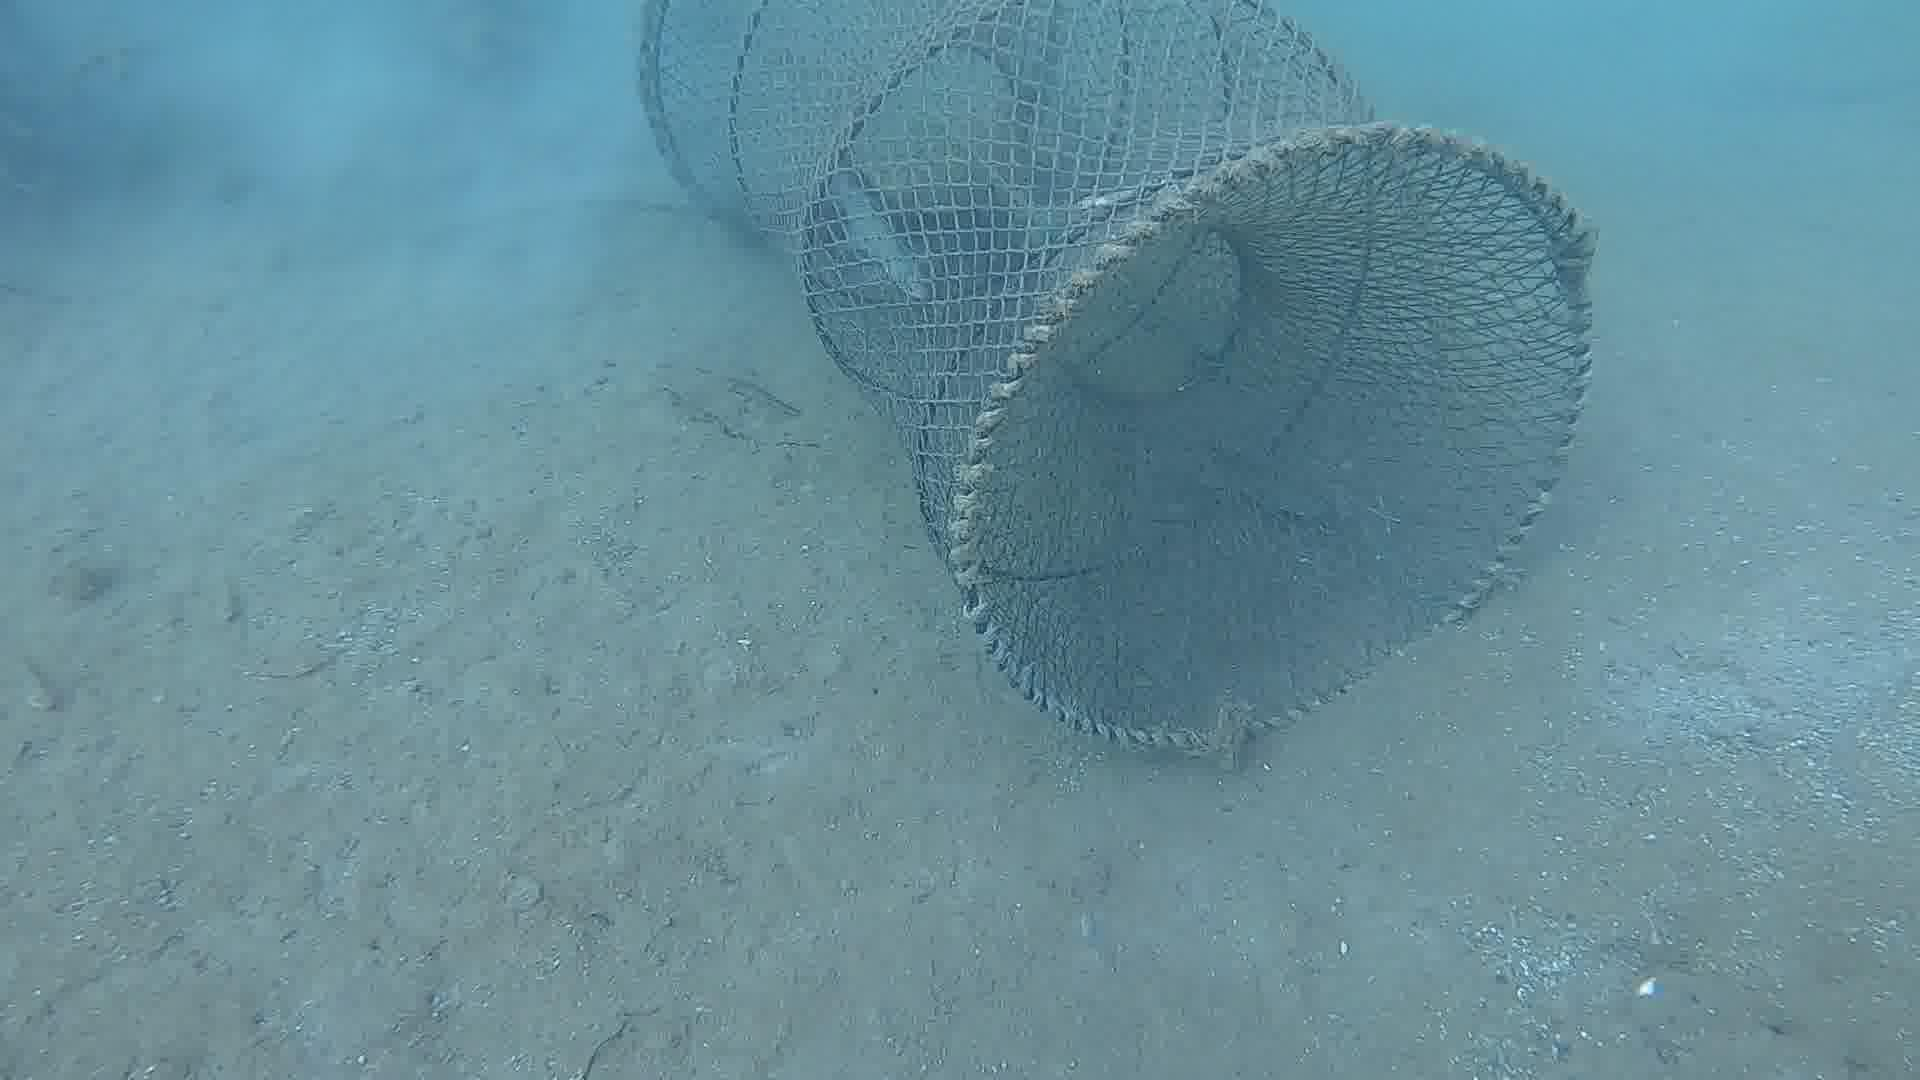spring fish trap: (632, 0, 1598, 767)
